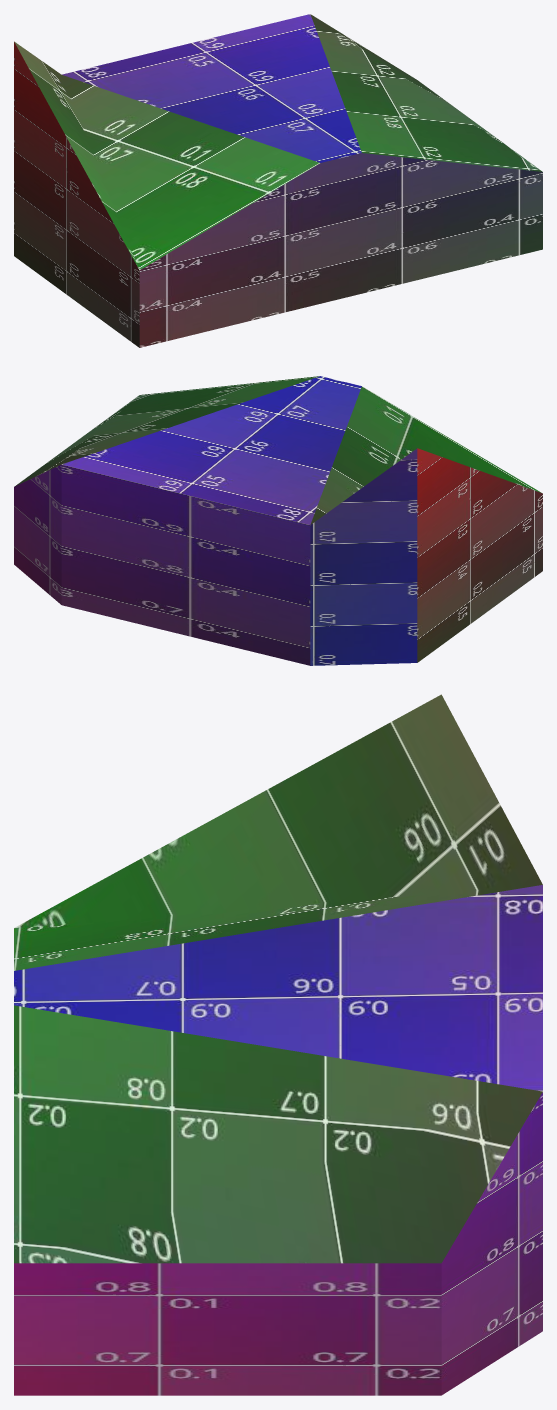
File: test_block.glb
The picture shows the model from 3 angles, top to bottom: view 1: azimuth 30°, elevation 25°; view 2: azimuth 150°, elevation 25°; view 3: azimuth 270°, elevation 25°; orthographic projection. The views are drawn at different scales.
Visible parts, largest first — view 1: Paddle; view 2: Paddle; view 3: Paddle.
Part boxes in pixels (bbox=[...]): Paddle: bbox=[14, 14, 542, 347]; Paddle: bbox=[14, 376, 542, 665]; Paddle: bbox=[14, 694, 542, 1395].
Bounding box in the file's own units: 3 × 1.53 × 2.
1 material, 1 textured.
